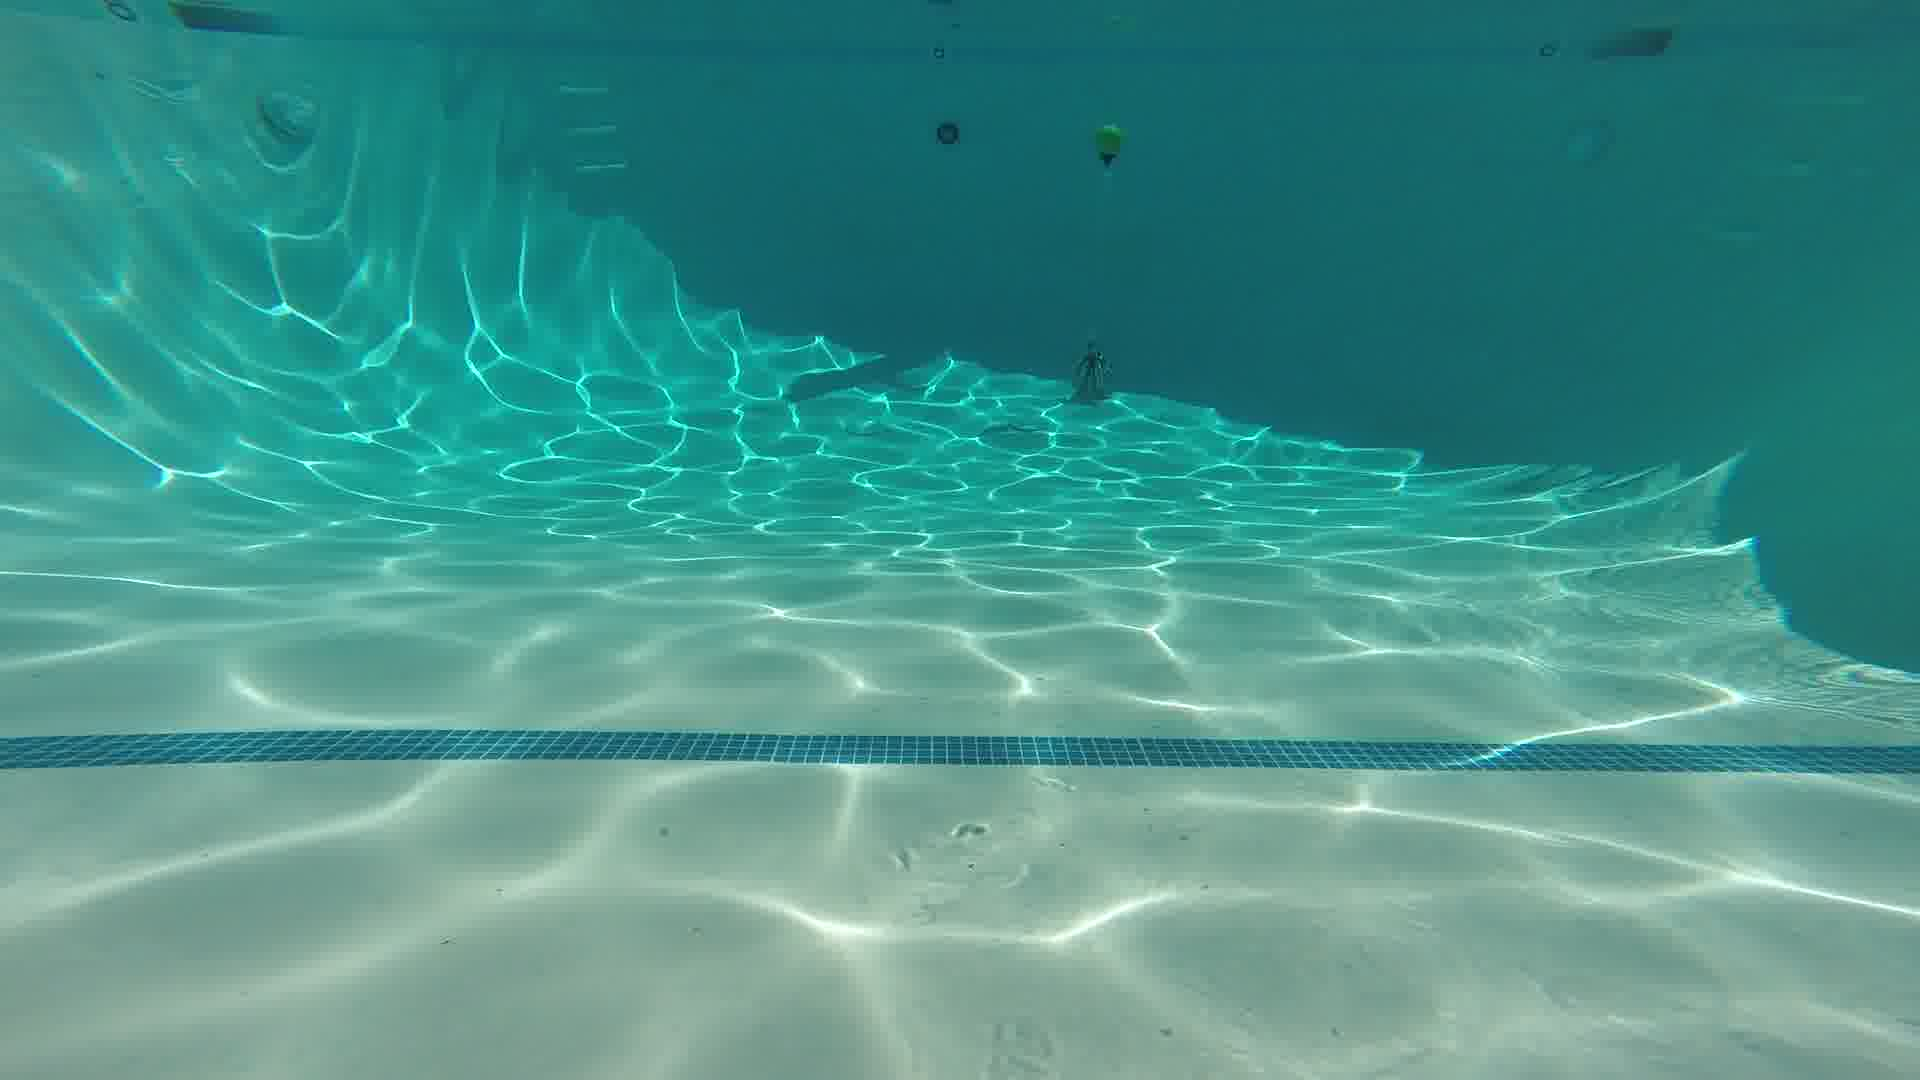yellow buoy: (1087, 117, 1131, 170)
